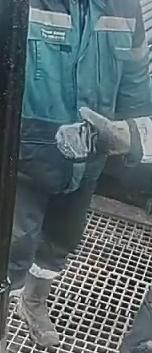gloves: (53, 105, 152, 163)
vest: (22, 0, 144, 179)
